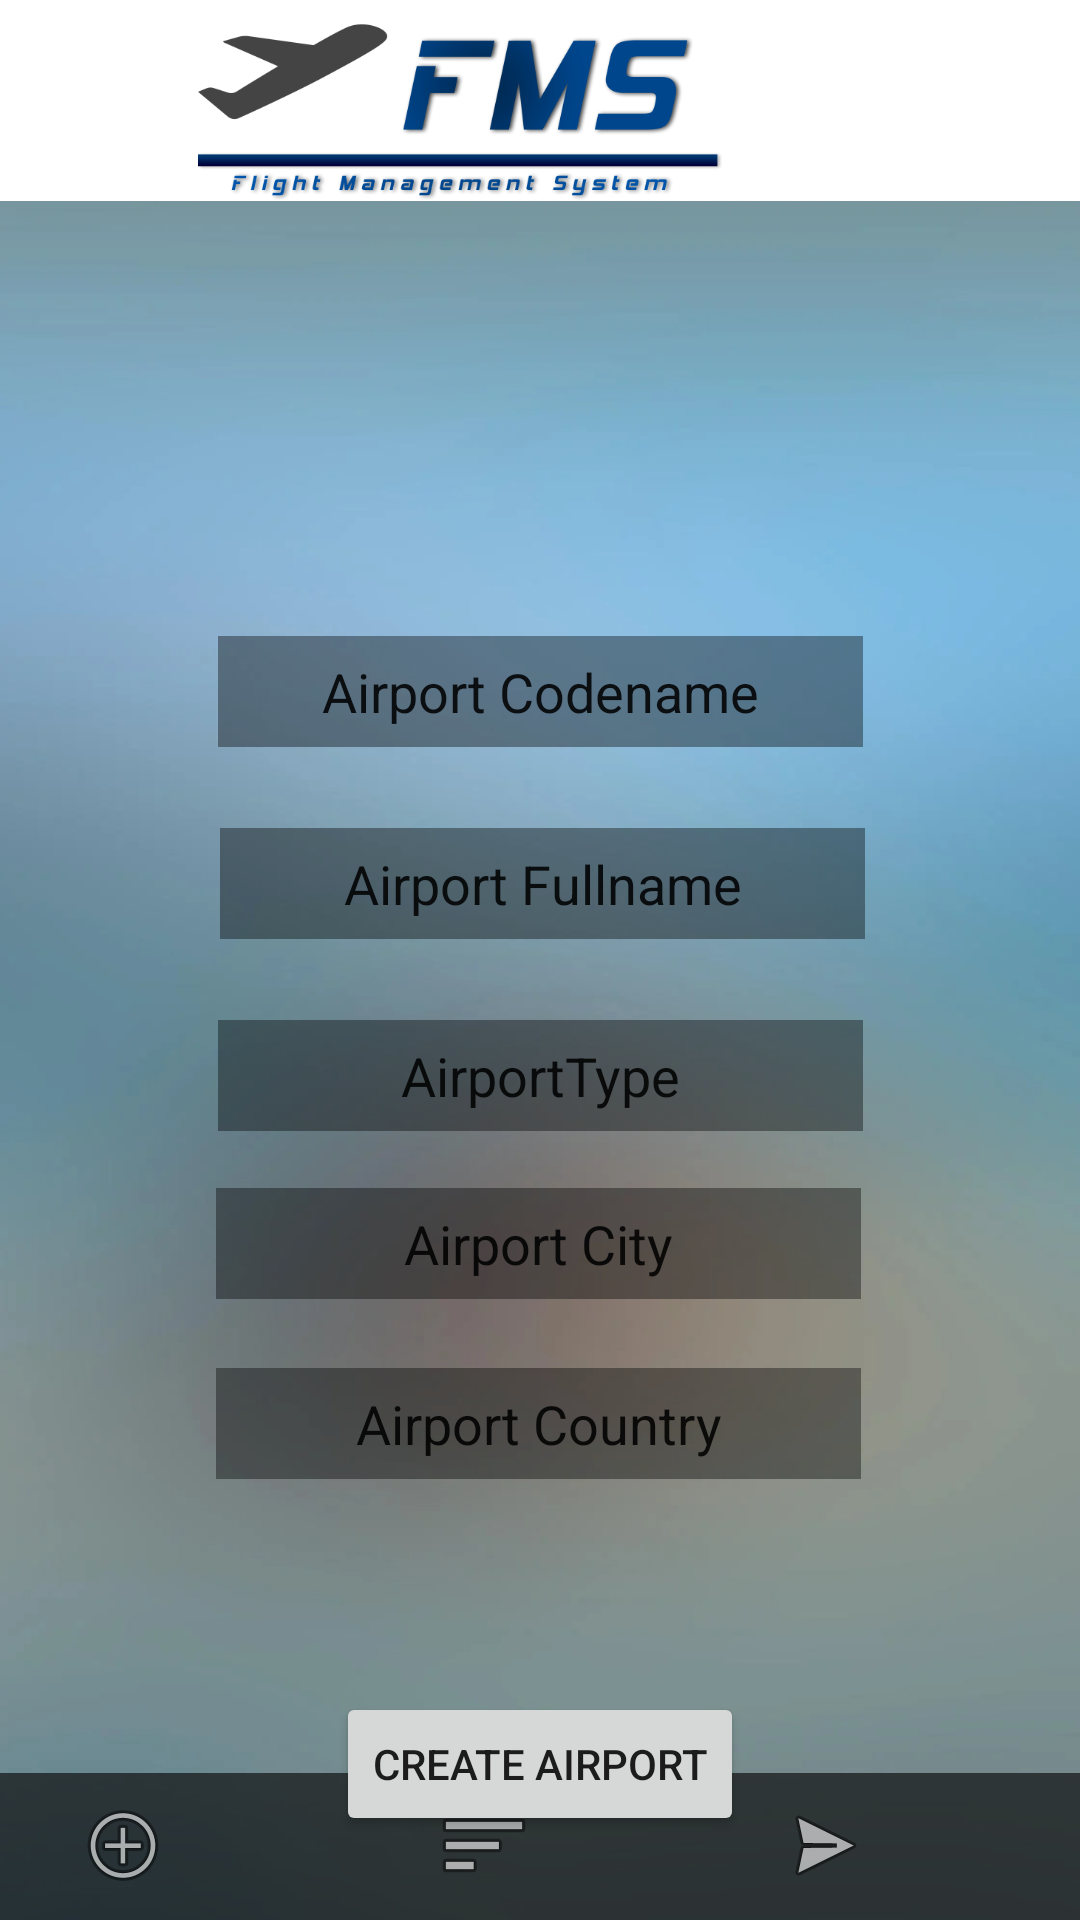

Icon click points for this 1080 × 1920 phone screenshot, format [x,y]:
add: [123,1845]
send: [826,1845]
